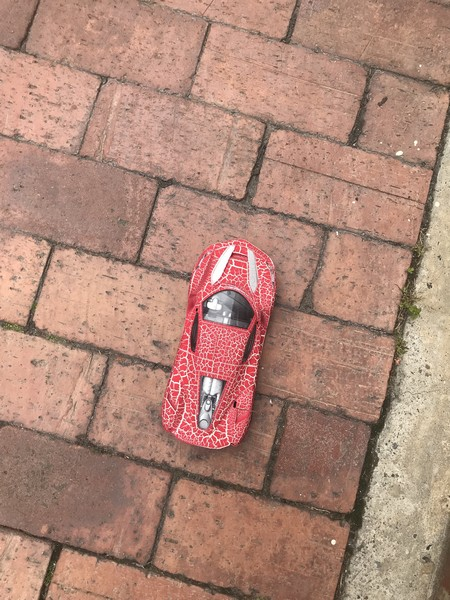RC: (159, 236, 280, 452)
